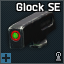Glock Dead Ringer Snake Eye front sight: (0, 0, 64, 64)
